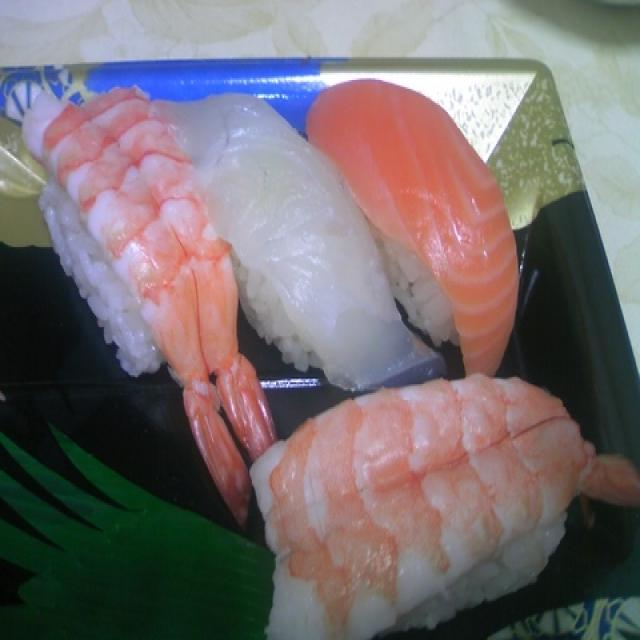寿司卷物: (40, 90, 273, 522)
